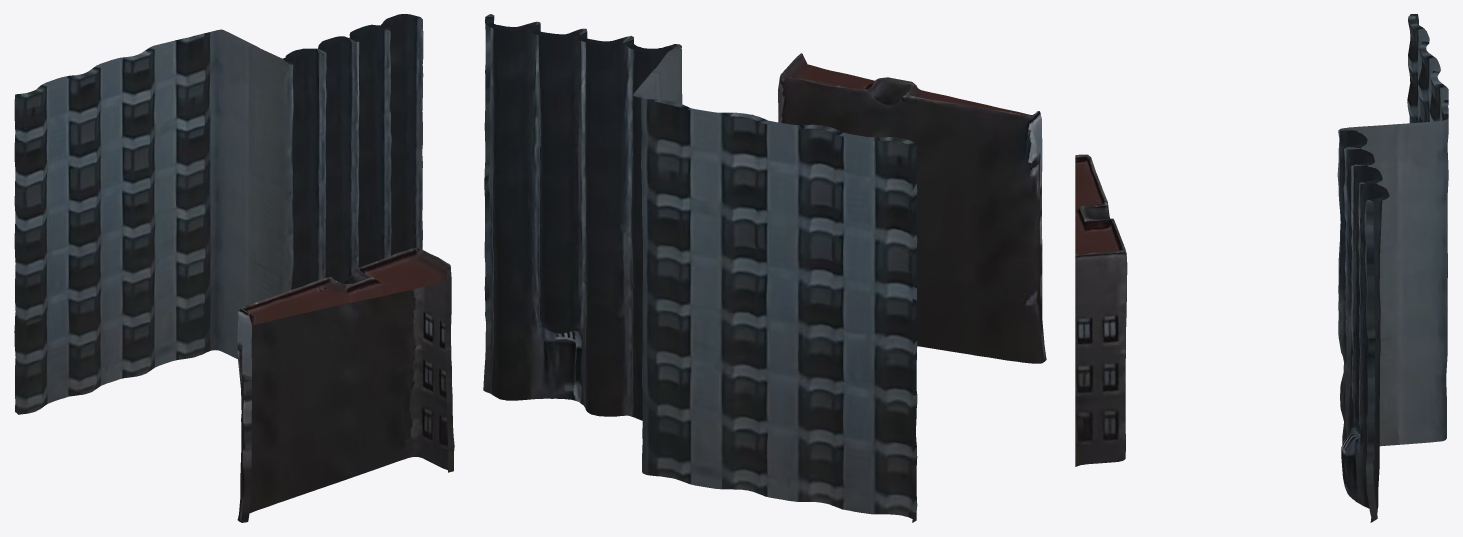
Rendered from z20-167745-405249-h1-yup-uvflip-v3-world.glb.
3 views of the same model, side by side, from view 1: azimuth 30°, elevation 25°; view 2: azimuth 150°, elevation 25°; view 3: azimuth 270°, elevation 25° (orthographic). The views are drawn at different scales.
Bounding box in the file's own units: 30.2 × 24 × 25.28.
Materials: 1 (1 with a texture image).
